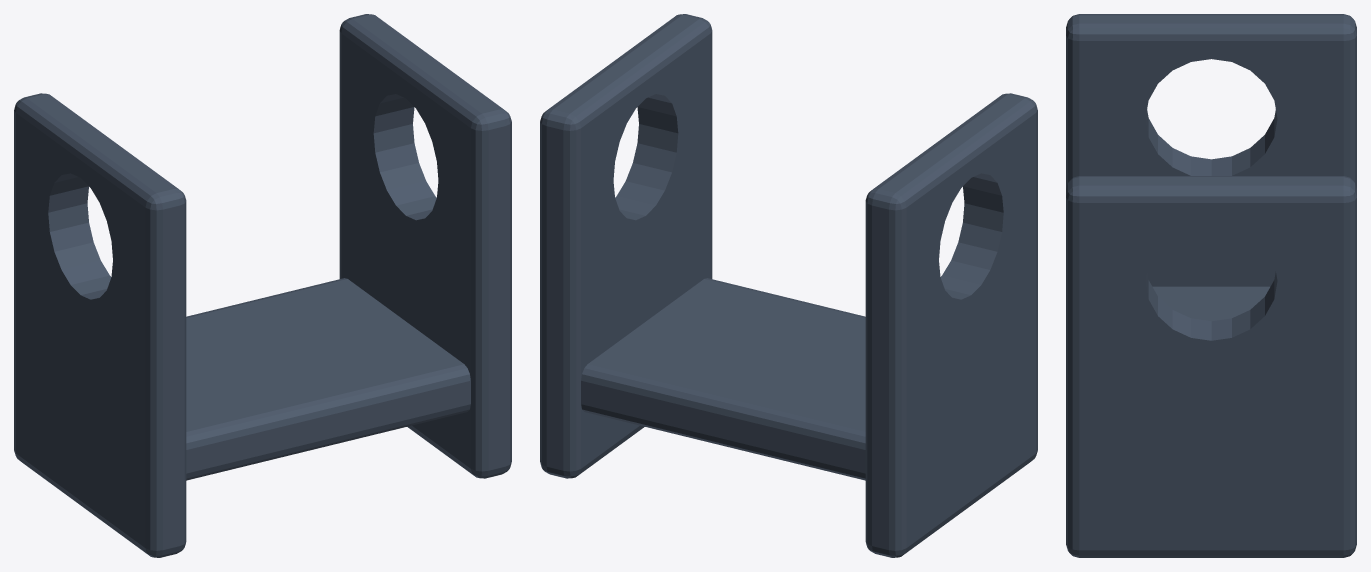
File: modular_arm_bracket.obj
The picture shows the model from 3 angles, left to right: view 1: azimuth 30°, elevation 25°; view 2: azimuth 150°, elevation 25°; view 3: azimuth 270°, elevation 25°; orthographic projection.
Parts seen in each view (by area): view 1: modular_arm_bracket; view 2: modular_arm_bracket; view 3: modular_arm_bracket.
Boxes of the visible parts, box(x1,y1,x2,y2) form: modular_arm_bracket: box(14, 14, 511, 557); modular_arm_bracket: box(540, 14, 1037, 557); modular_arm_bracket: box(1066, 14, 1356, 557).
Size of the model in its own units: 0.065 by 0.062 by 0.044.
